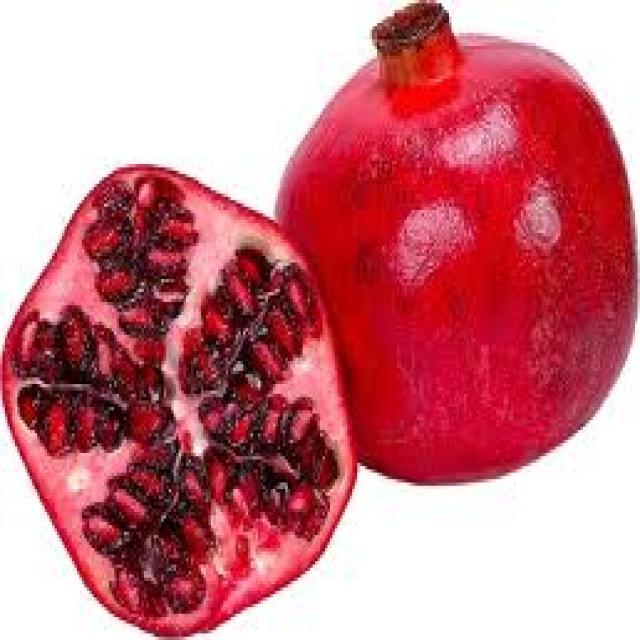pomegranate: (2, 0, 638, 637)
